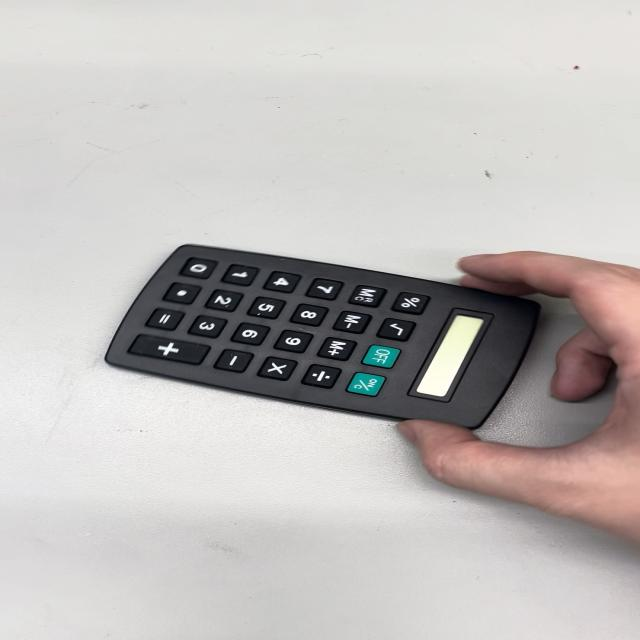calculator: (105, 237, 545, 438)
